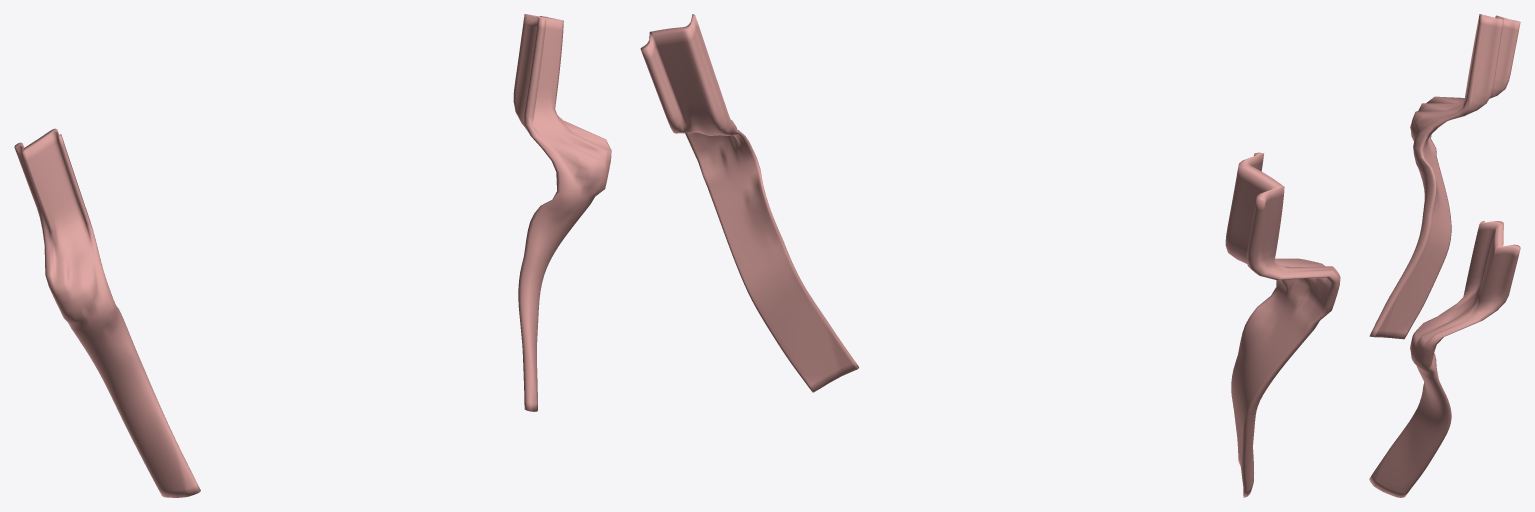
The model's file is zygomaticus_minor_lod1.glb.
3 views of the same model, side by side, from view 1: azimuth 30°, elevation 25°; view 2: azimuth 150°, elevation 25°; view 3: azimuth 270°, elevation 25° (orthographic). The views are drawn at different scales.
Visible parts, largest first — view 1: zygomaticus_minor_R_lod1, zygomaticus_minor_L_lod1; view 2: zygomaticus_minor_L_lod1, zygomaticus_minor_R_lod1; view 3: zygomaticus_minor_R_lod1, zygomaticus_minor_L_lod1.
Boxes of the visible parts, bbox=[...] form: zygomaticus_minor_R_lod1: bbox=[14, 128, 200, 497]; zygomaticus_minor_L_lod1: bbox=[513, 14, 611, 411]; zygomaticus_minor_L_lod1: bbox=[640, 14, 858, 392]; zygomaticus_minor_R_lod1: bbox=[1225, 152, 1340, 497]; zygomaticus_minor_R_lod1: bbox=[1369, 14, 1520, 339]; zygomaticus_minor_L_lod1: bbox=[1369, 221, 1520, 497].
Bounding box in the file's own units: 0.0779 × 0.0452 × 0.0206.
